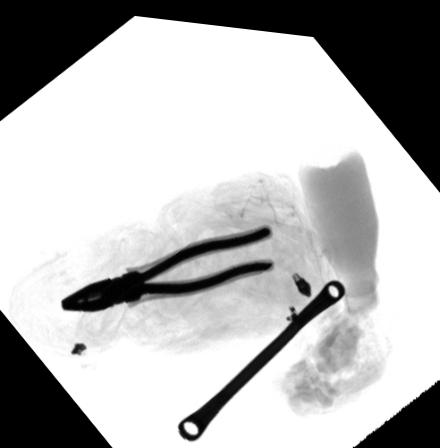Pliers: (61, 213, 275, 309)
Wrench: (177, 270, 347, 435)
